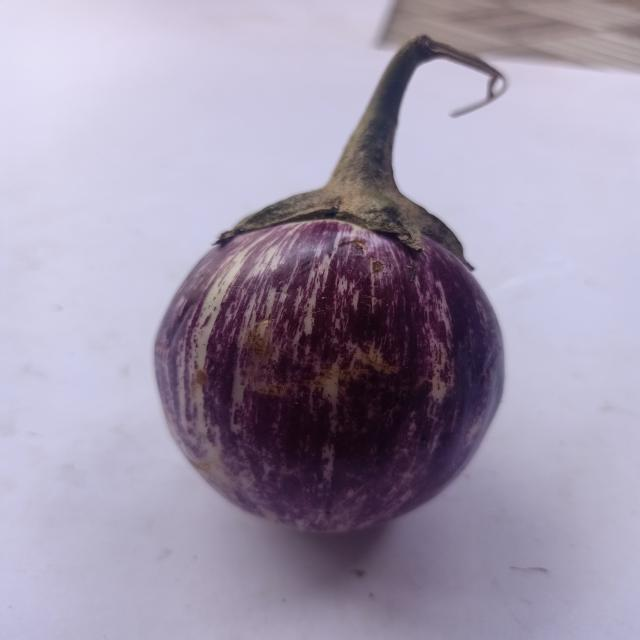Eggplant: (133, 33, 539, 555)
